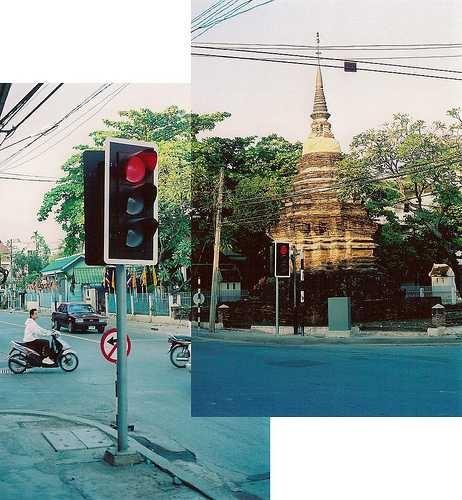red: (105, 136, 159, 264), (120, 139, 157, 184), (275, 238, 291, 282), (275, 241, 292, 257)
